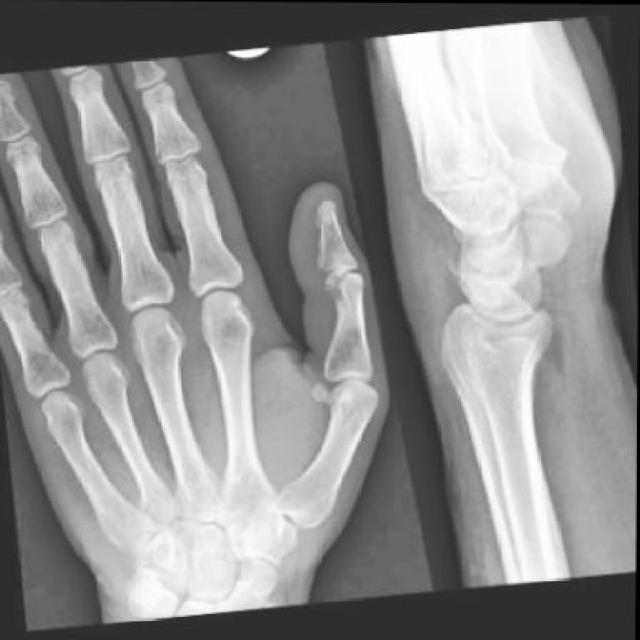Fracture: (437, 236, 479, 284), (135, 571, 176, 615)
